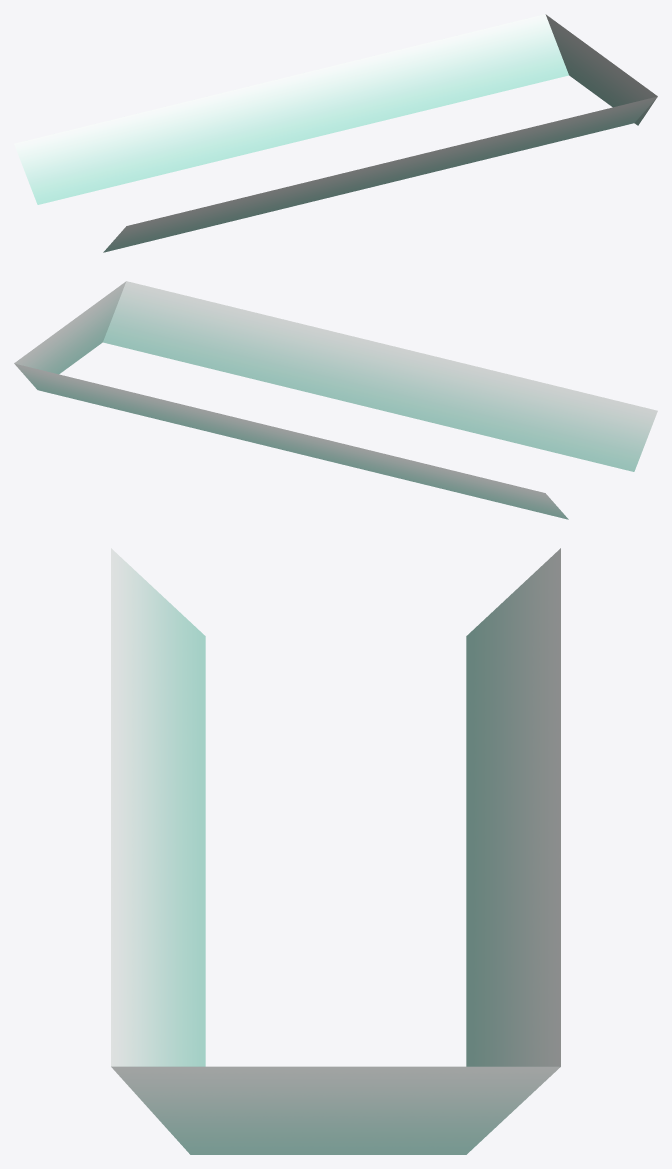
File: shades.fbx
The picture shows the model from 3 angles, top to bottom: view 1: azimuth 30°, elevation 25°; view 2: azimuth 150°, elevation 25°; view 3: azimuth 270°, elevation 25°; orthographic projection. The views are drawn at different scales.
Visible parts, largest first — view 1: pPlane4; view 2: pPlane4; view 3: pPlane4.
Part boxes in pixels (x1,y1,x2,y2): pPlane4: [14, 14, 657, 252]; pPlane4: [14, 281, 657, 519]; pPlane4: [111, 548, 560, 1154].
Bounding box in the file's own units: 2153 × 171 × 789.
1 material, 1 textured.
